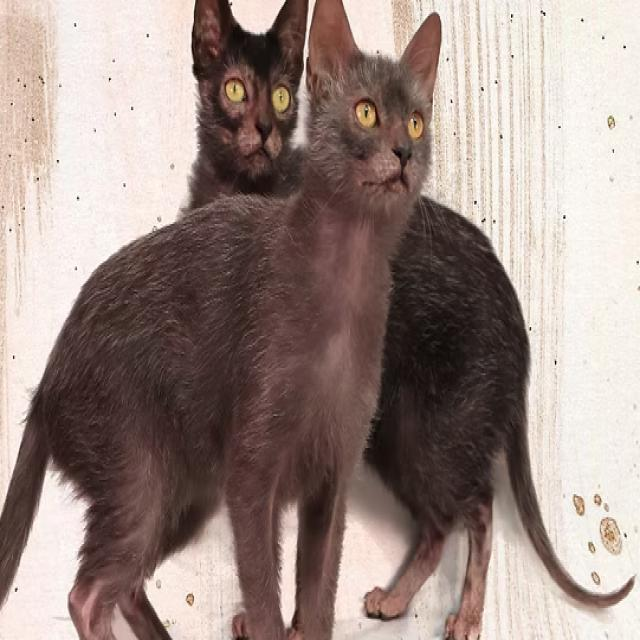Lykoi: (0, 0, 442, 640), (178, 0, 308, 199)
